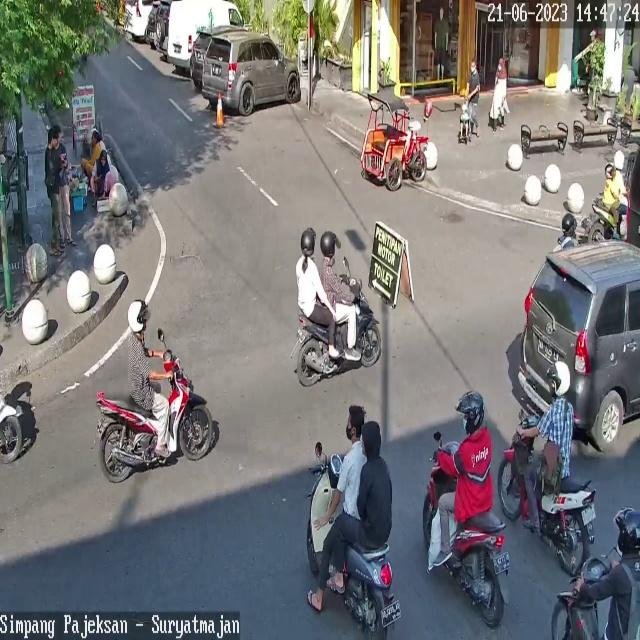bus: (306, 451, 401, 640), (422, 440, 510, 627), (496, 414, 596, 574), (96, 349, 216, 481), (291, 273, 382, 388), (550, 554, 608, 640), (0, 392, 24, 462), (586, 201, 616, 242)
motorcycle: (517, 240, 640, 451), (202, 31, 300, 116), (166, 0, 244, 67), (191, 28, 213, 82), (123, 0, 152, 36)
